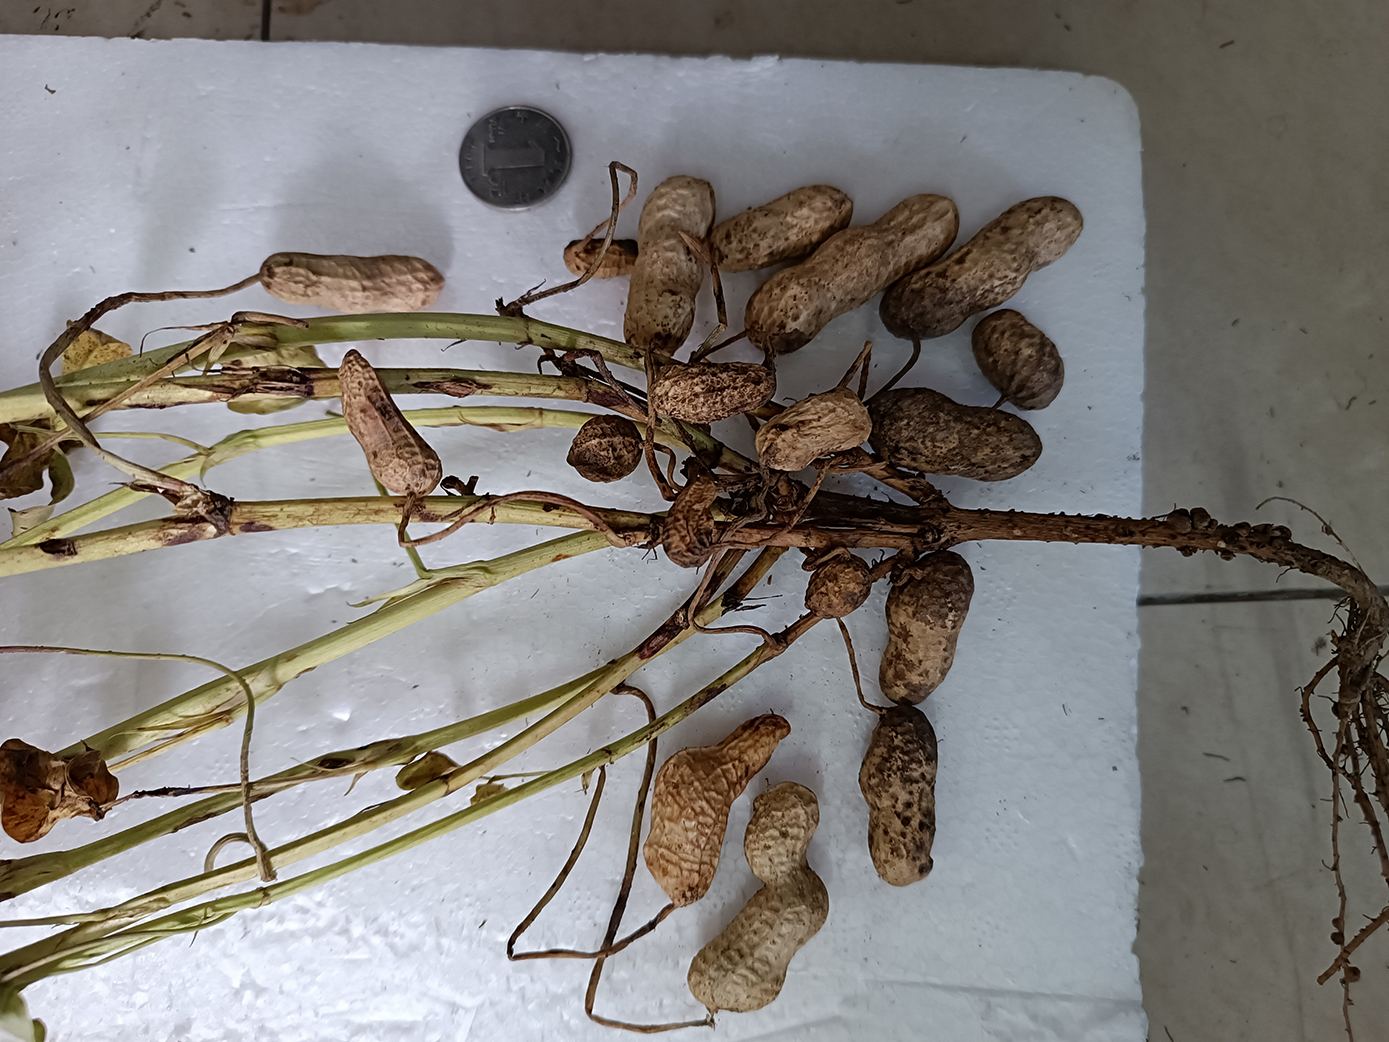h: (746, 195, 959, 354), (688, 783, 831, 1012), (641, 715, 790, 904), (882, 197, 1084, 335), (621, 173, 715, 360), (338, 347, 443, 499), (880, 549, 973, 705), (261, 251, 445, 319), (709, 187, 854, 271), (756, 391, 871, 473), (646, 363, 777, 426), (664, 475, 717, 572), (802, 556, 872, 620), (565, 239, 640, 279)
l: (865, 389, 1042, 483), (859, 706, 937, 885), (974, 309, 1072, 409), (568, 415, 638, 485)
